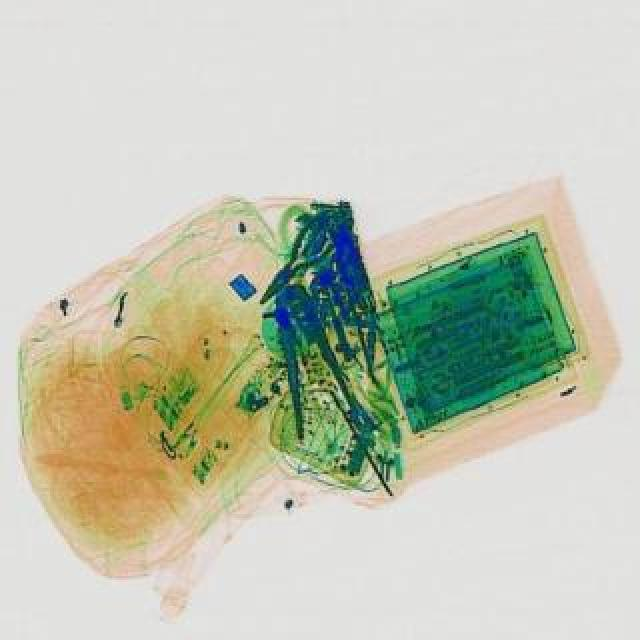wrench: (252, 276, 366, 442), (244, 210, 344, 312)
